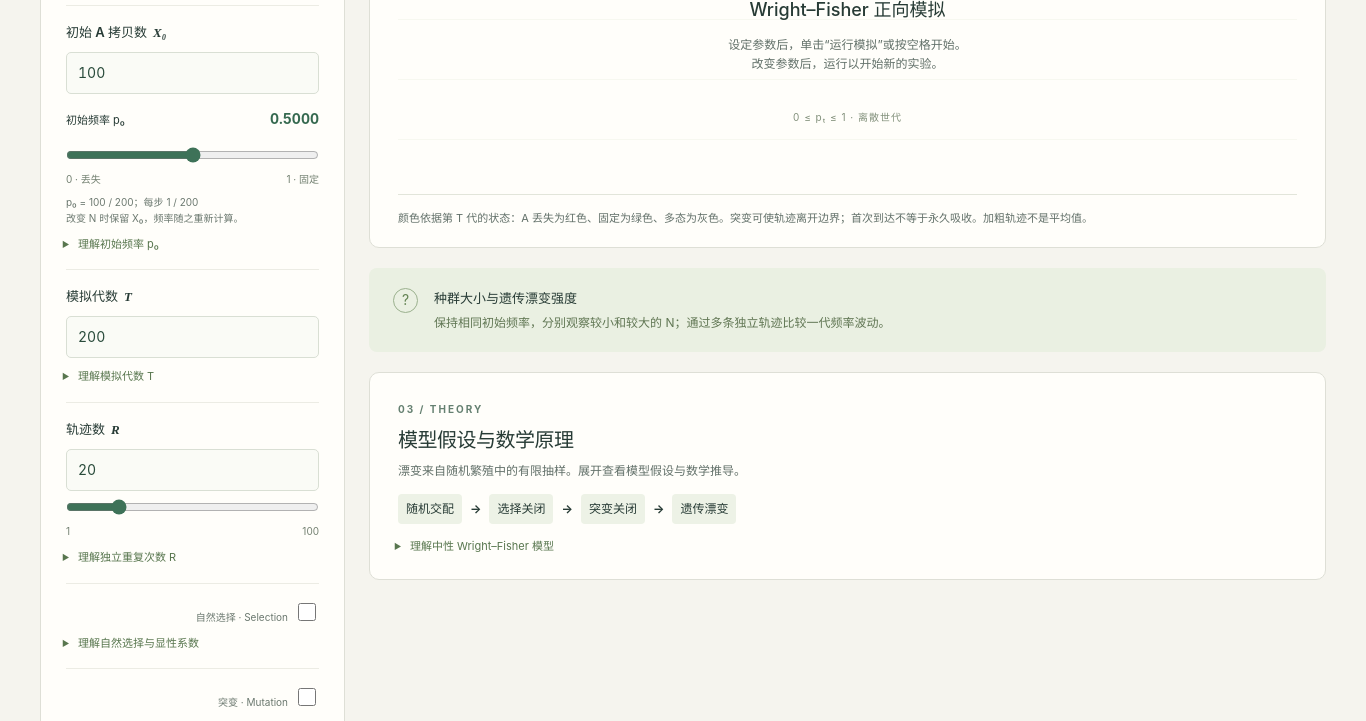
Test: renders 100 trajectories and prevents a cancelled experiment from restoring stale results
(page scrolled)
Replace the text in the number field labelled "模拟代数 T" with "1" at coordinates (192, 337), box [66, 316, 319, 358]
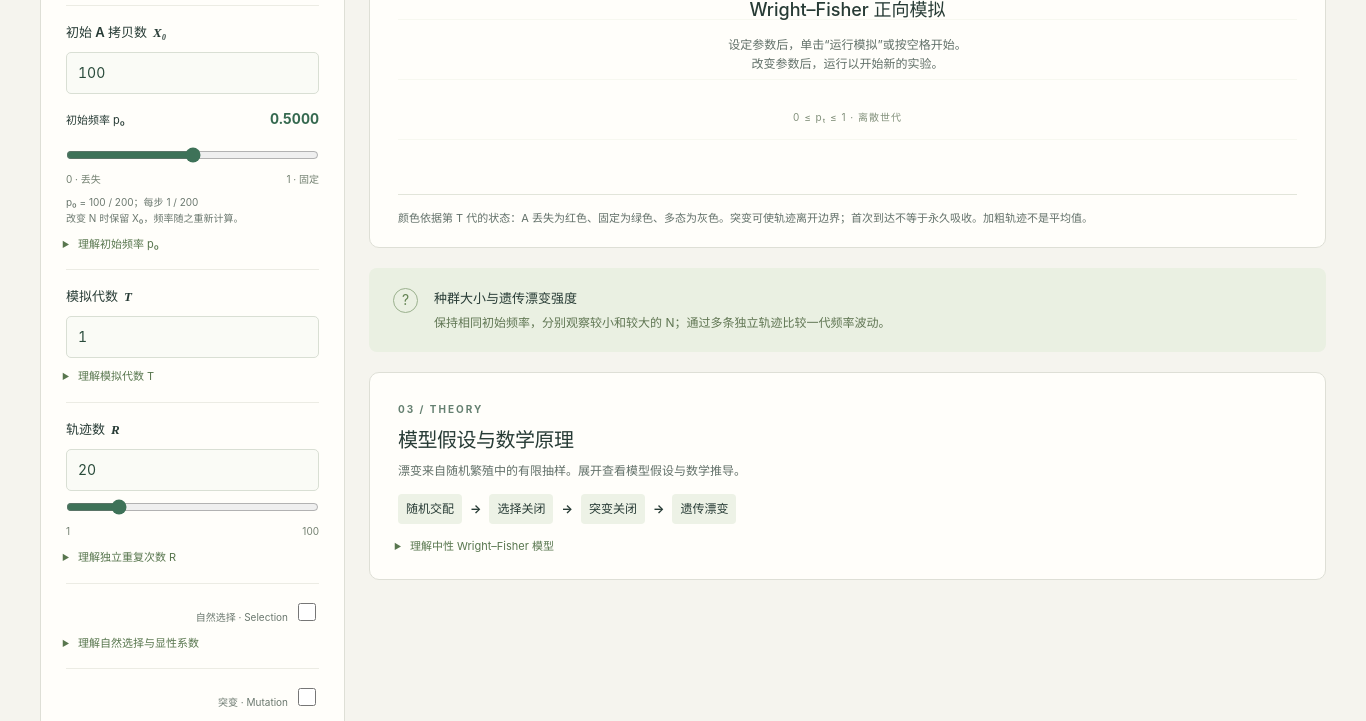
Replace the text in the number field labelled "轨迹数 R" with "100" at coordinates (192, 470), box [66, 449, 319, 491]
(page scrolled)
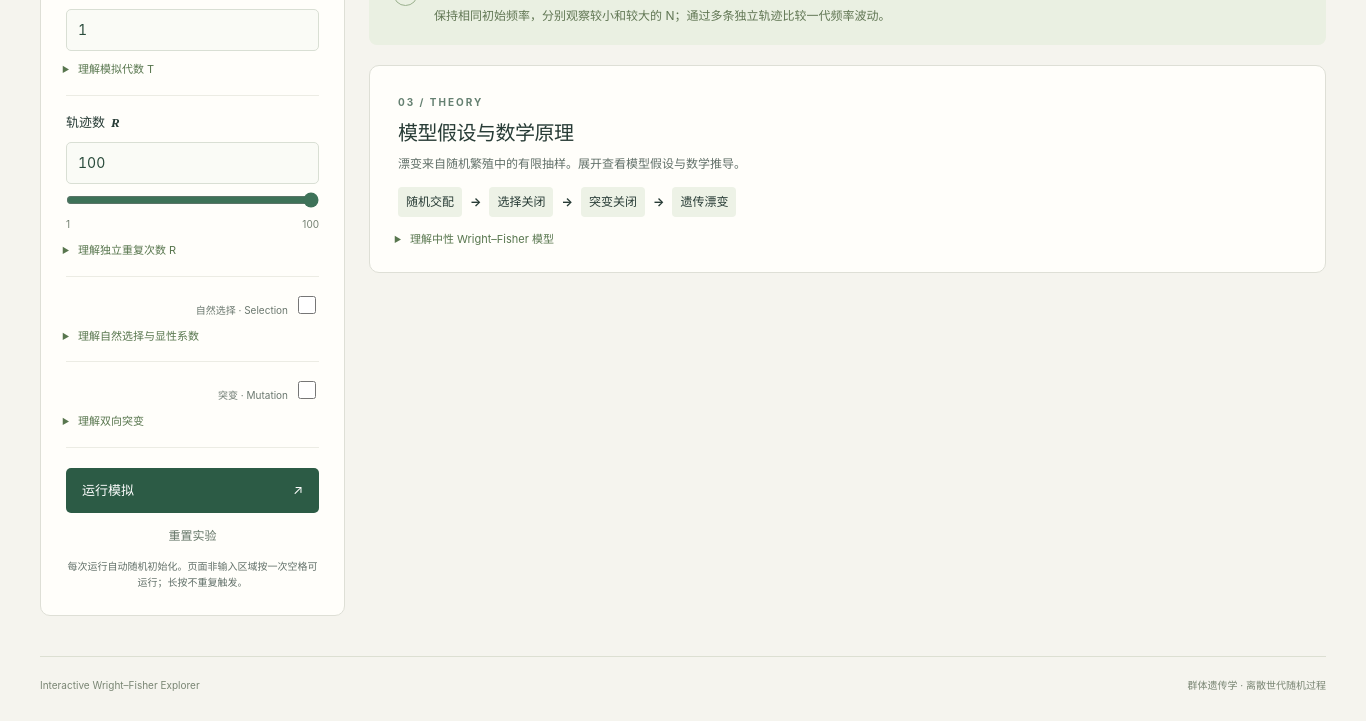
Click the button "运行模拟 ↗" at coordinates (192, 490), box [66, 468, 319, 513]
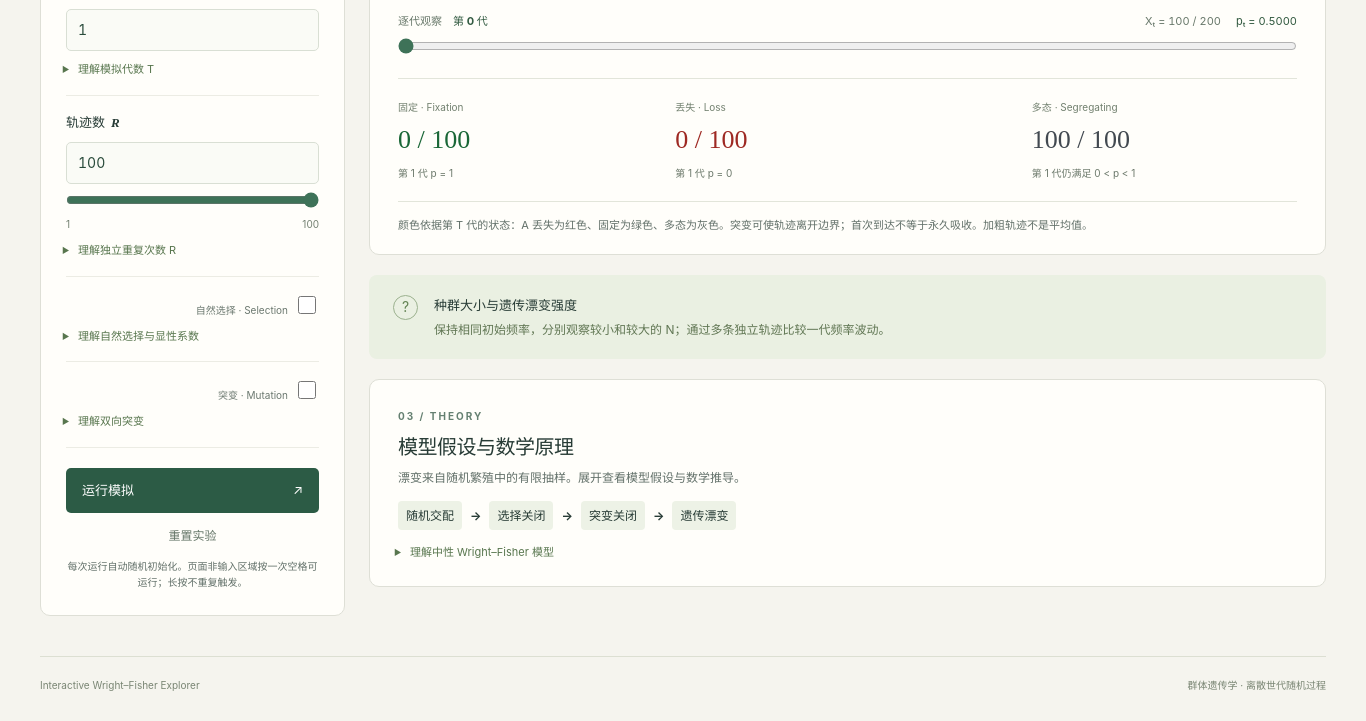
Click the button "运行模拟 ↗" at coordinates (192, 490), box [66, 468, 319, 513]
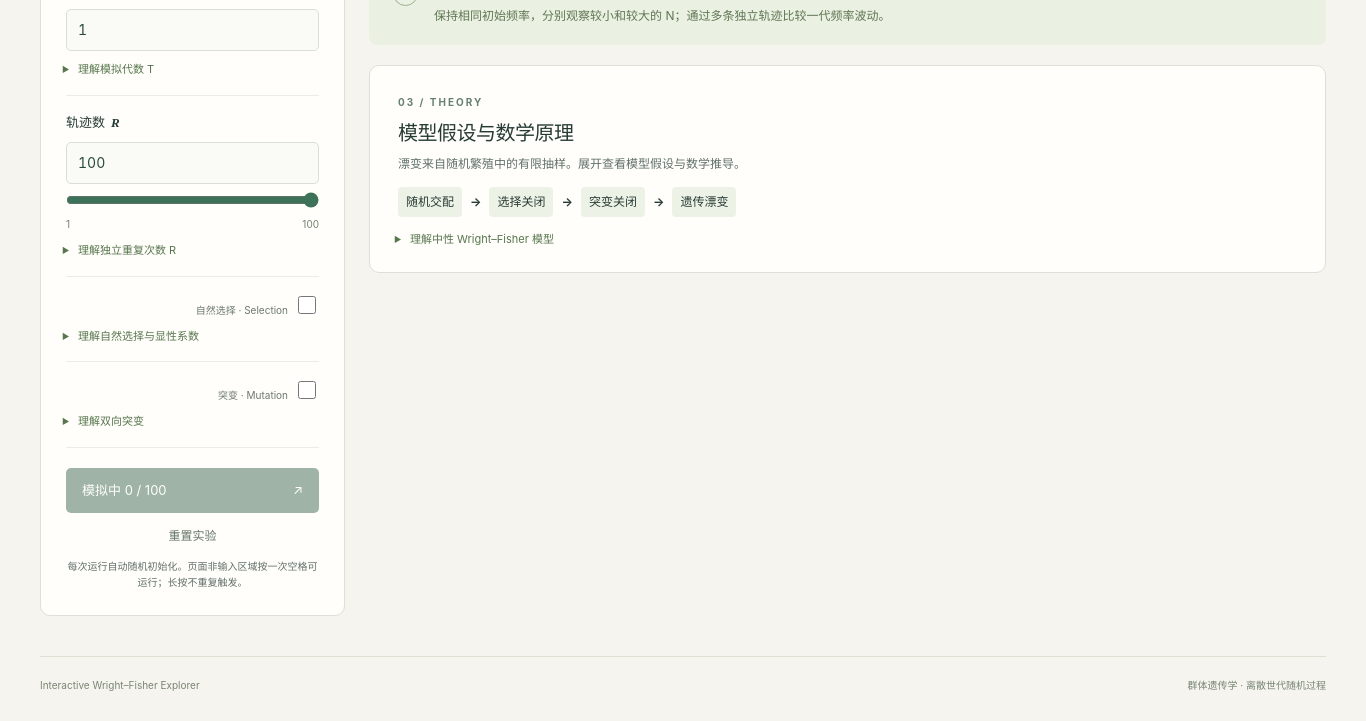
Replace the text in the number field labelled "模拟代数 T" with "2" at coordinates (192, 30), box [66, 9, 319, 51]
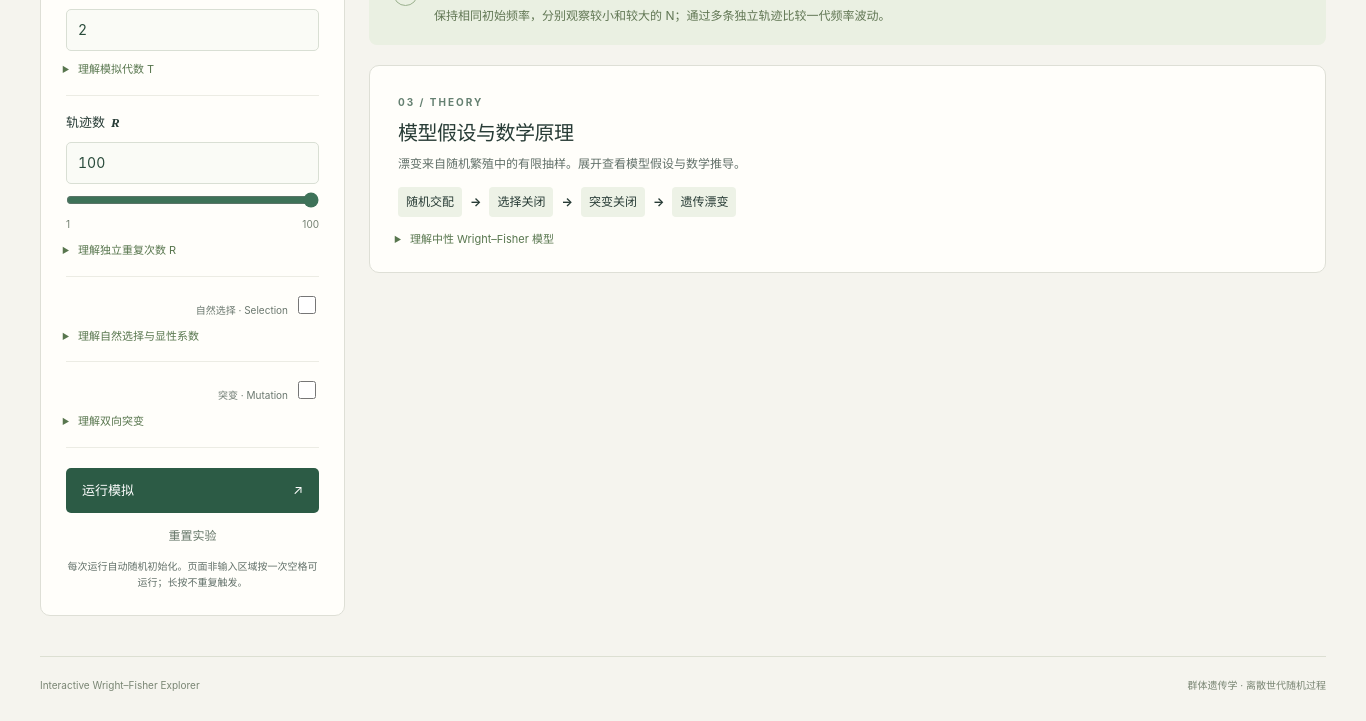
Now the button "运行模拟 ↗" is shown, box [66, 468, 319, 513]
